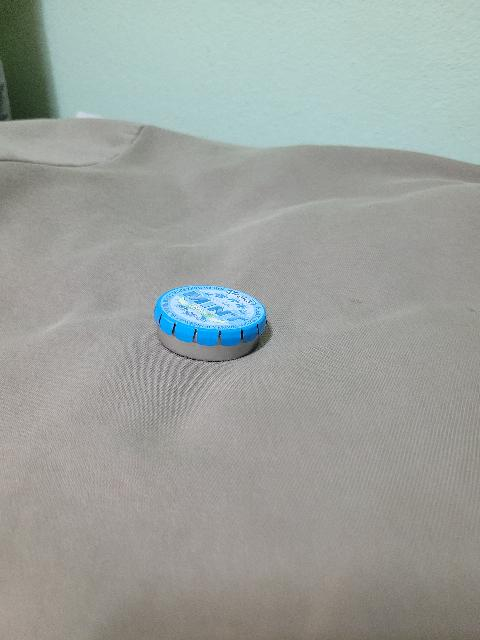Metal: (152, 283, 273, 364)
